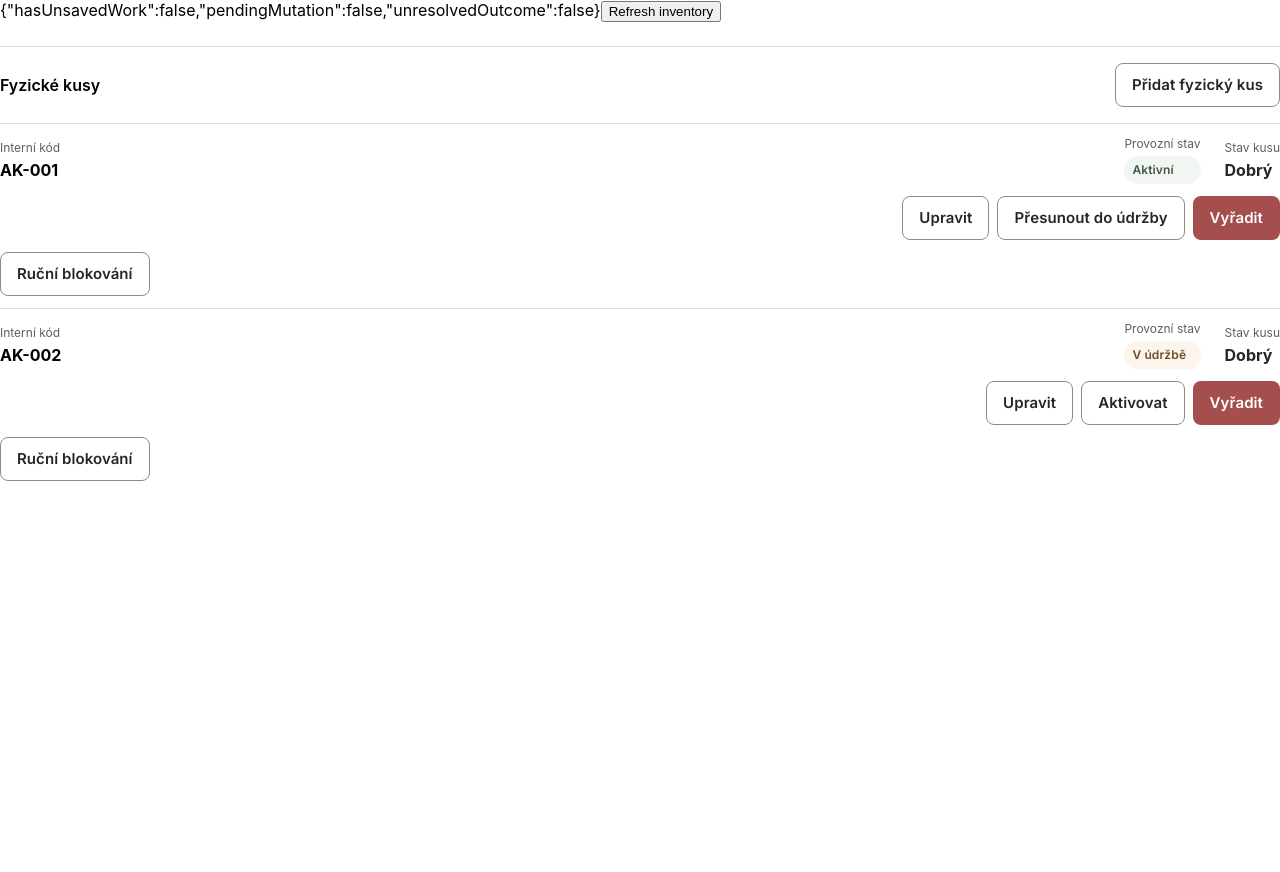
Scenario: delete confirms exact item/date with safe focus and removes only after list refresh; inactive can delete
The image size is (1280, 872).
Click the button "Ruční blokování" below "AK-002" at [75, 459], box [0,437,150,481]
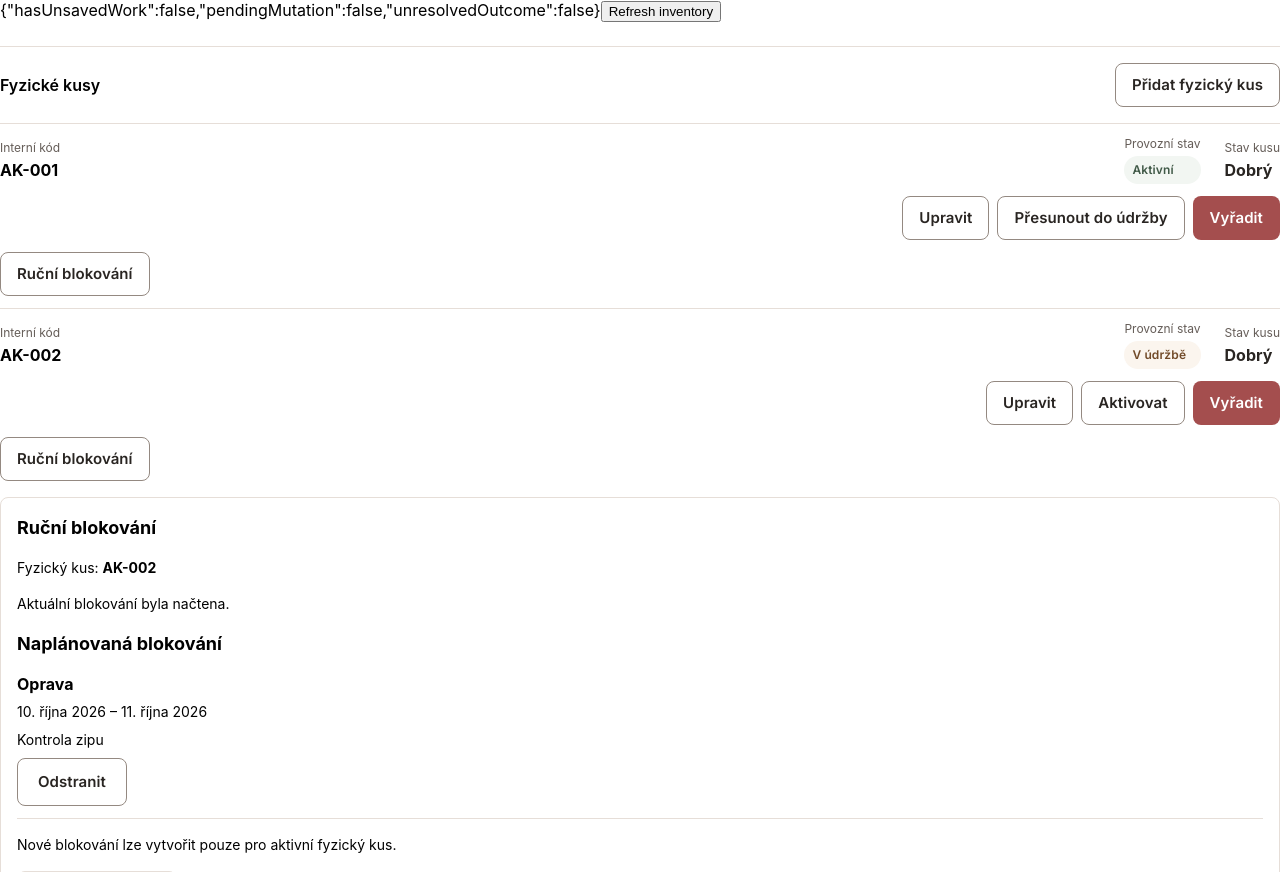
Expected: the heading "Naplánovaná blokování" is shown, [17,633,222,654]
Click the button "Odstranit" at [72, 782], box [17,758,127,806]
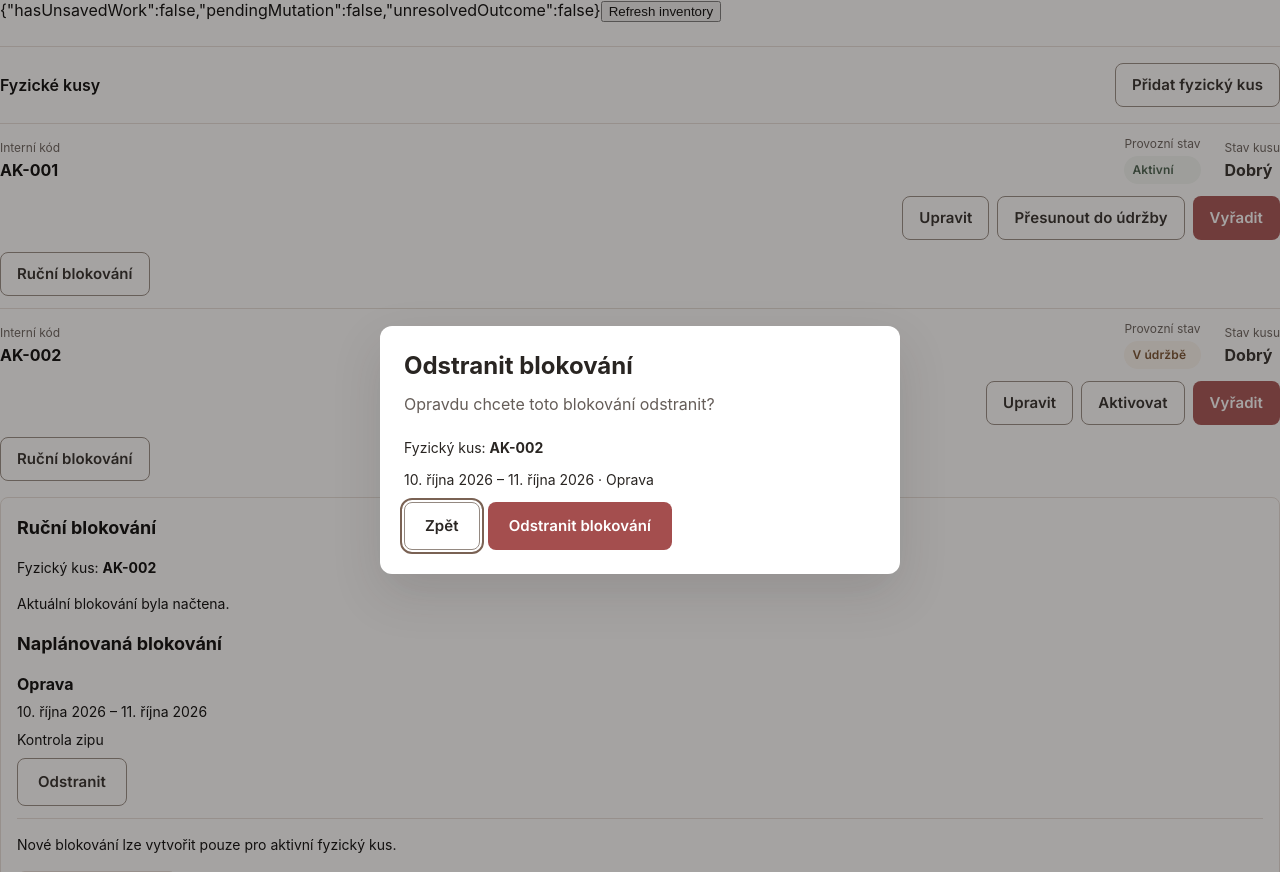
Expected: the dialog shows "AK-002", [490,439,543,456]
Expected: the dialog shows "10. října 2026 – 11. října 2026", [380,326,900,574]
Click the button "Odstranit blokování" at [580, 526], box [488,502,672,550]
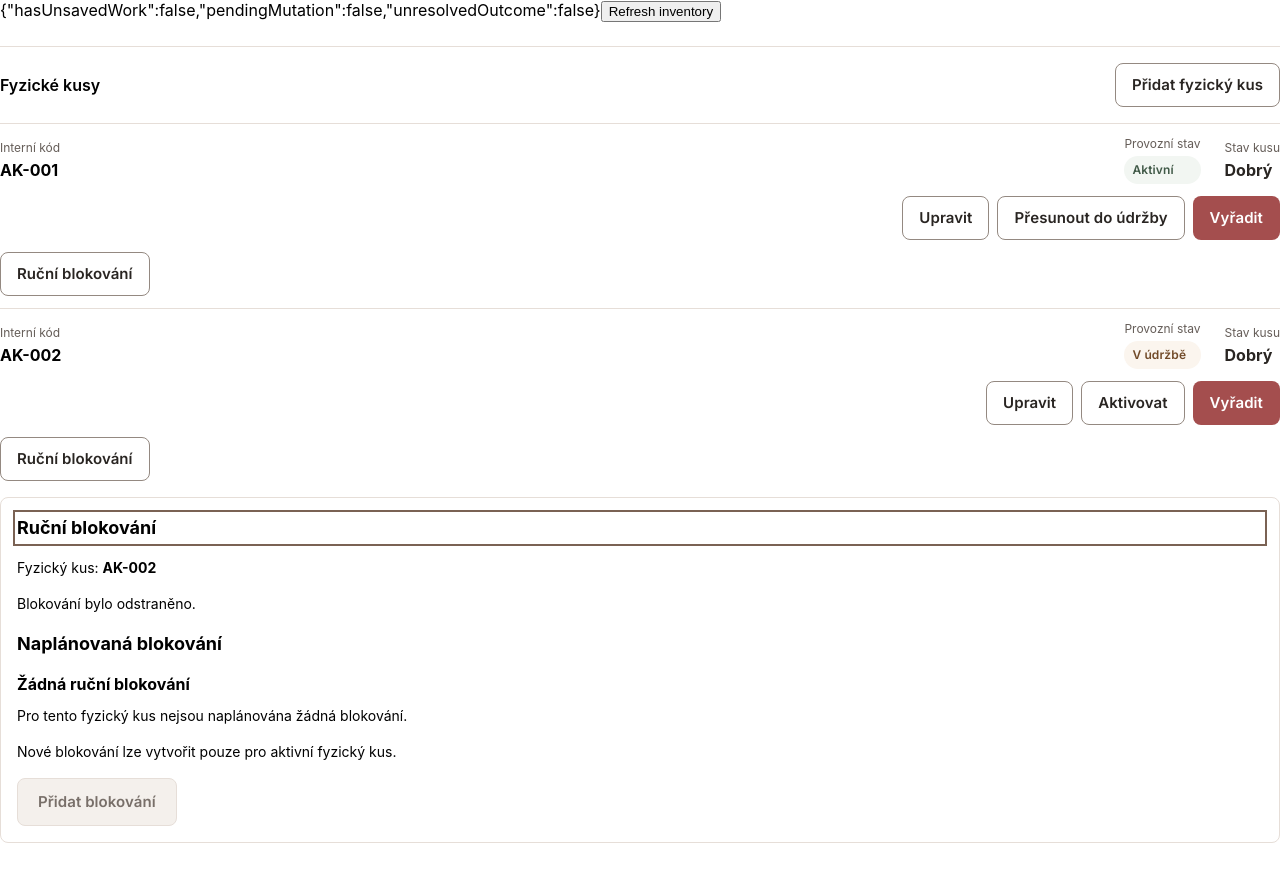
Expected: the text "Blokování bylo odstraněno." is shown, [17,595,196,612]
Expected: the dialog is gone
Expected: the text "Žádná ruční blokování" is shown, [17,674,190,694]
